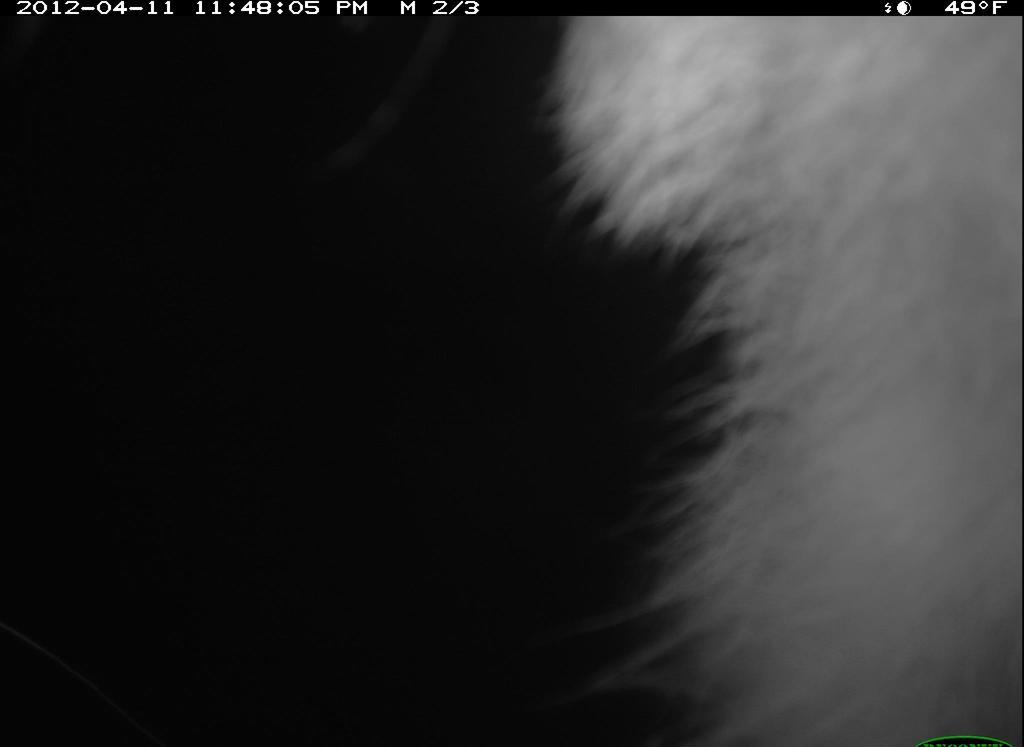raccoon: (543, 15, 1009, 747)
